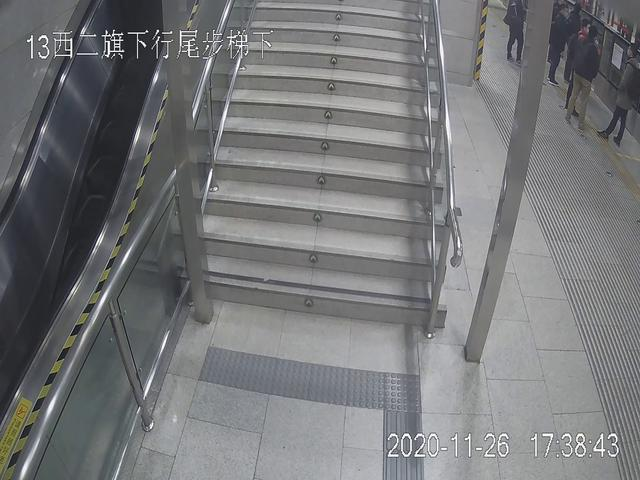person: (563, 27, 603, 135), (612, 44, 640, 153)
